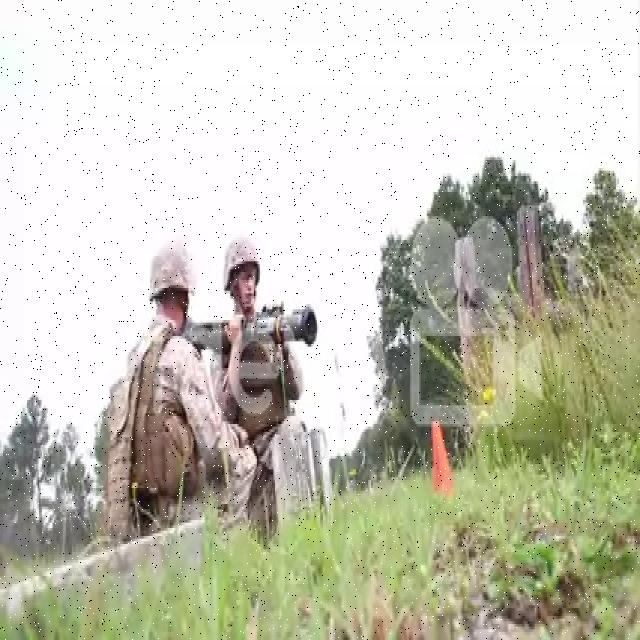bazooka: (189, 296, 322, 362)
